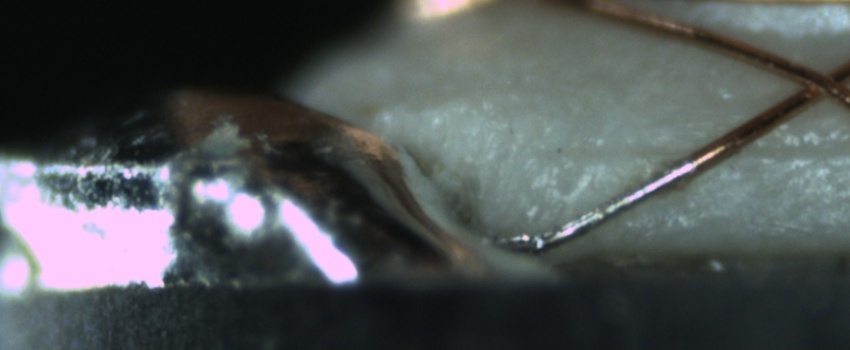CL: (779, 56, 847, 112)
DL: (527, 124, 850, 188)
TS: (501, 157, 696, 253)
